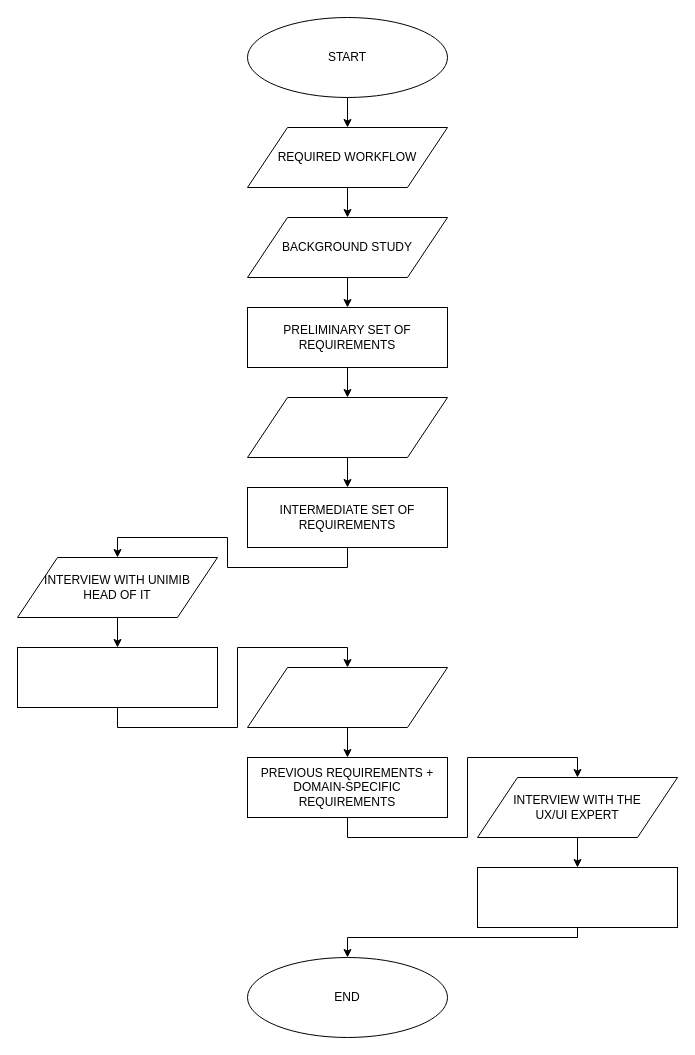
Some shapes in this 695 by 1055 pixel diagram are drawn without their labels. The centre of each missing label's shape, as x and y in pixels:
"INTERVIEW WITH A SAMPLE OF STUDENTS" goes at (347,697).
"PREVIOUS REQUIREMENTS + UNIVERSITY-SIDE REQUIREMENTS" goes at (117,677).
"PREVIOUS REQUIREMENTS + UX/UI REQUIREMENTS" goes at (577,897).
"QUESTIONNAIRE FOR UNIMIB STUDENTS" goes at (347,427).
